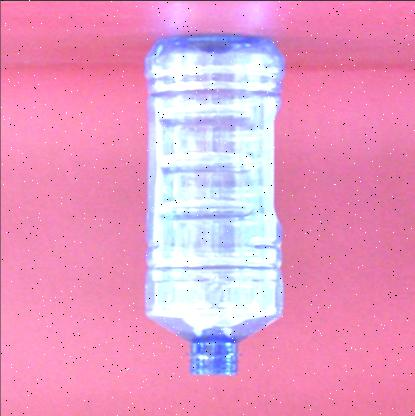Plastic Bottle: (137, 28, 292, 390)
